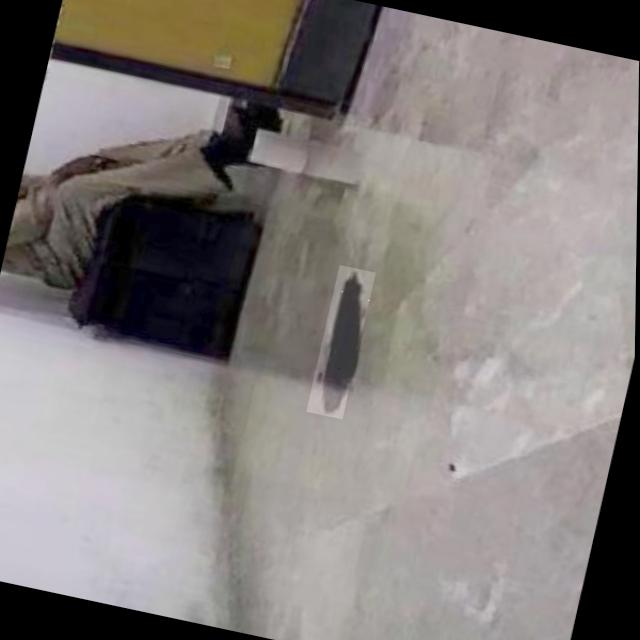spillage: (317, 269, 361, 413)
